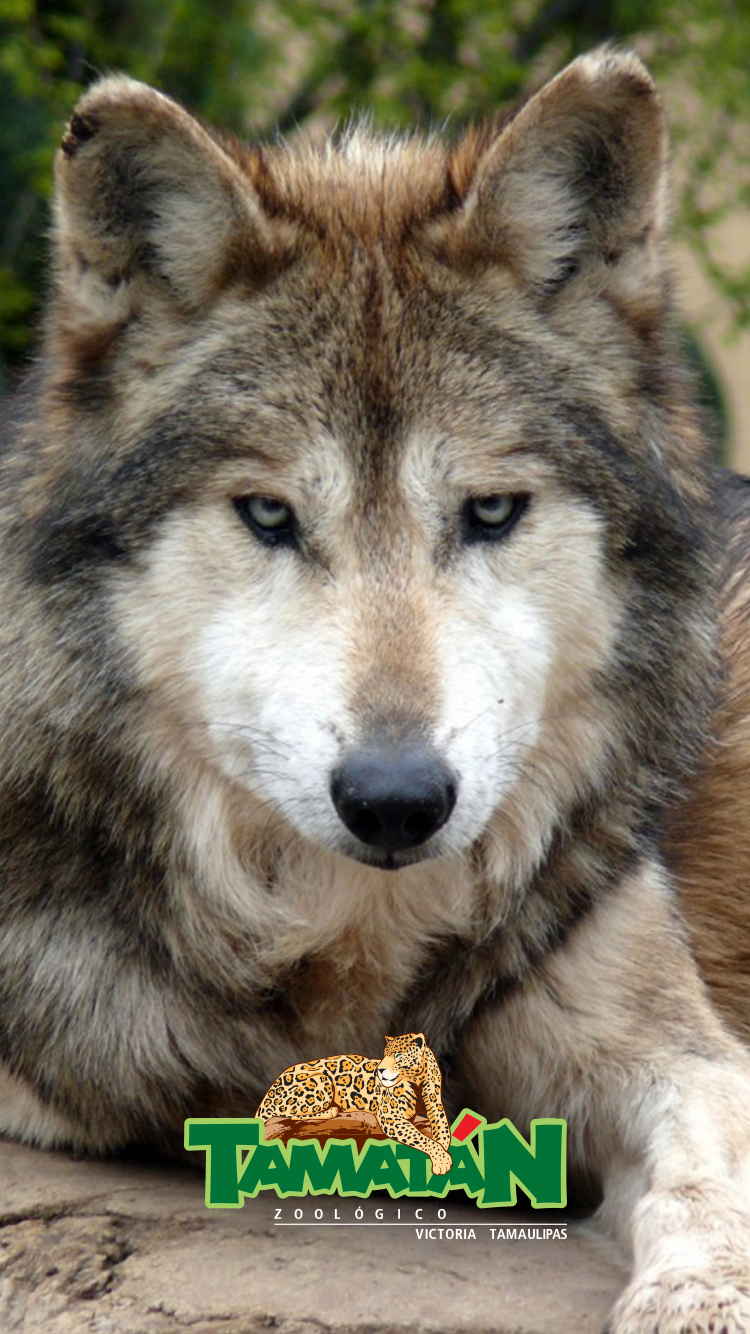Lobo: (37, 39, 722, 1014)
